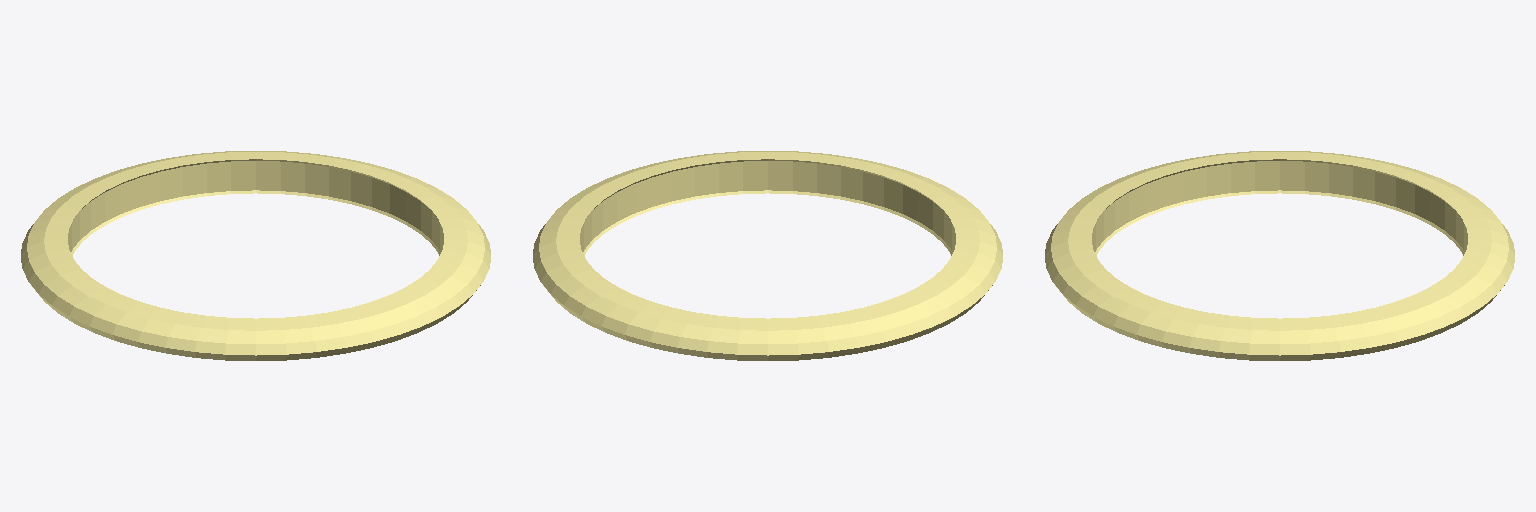
3 renders of one model, left to right at view 1: azimuth 30°, elevation 25°; view 2: azimuth 150°, elevation 25°; view 3: azimuth 270°, elevation 25°, orthographic.
Parts seen in each view (by area): view 1: トーラス; view 2: トーラス; view 3: トーラス.
Boxes of the visible parts, box(x1,y1,x2,y2) form: トーラス: box(21, 151, 490, 360); トーラス: box(533, 151, 1002, 360); トーラス: box(1045, 151, 1514, 360).
Bounding box in the file's own units: 1.25 × 0.1 × 1.25.
1 materials, 1 textured.